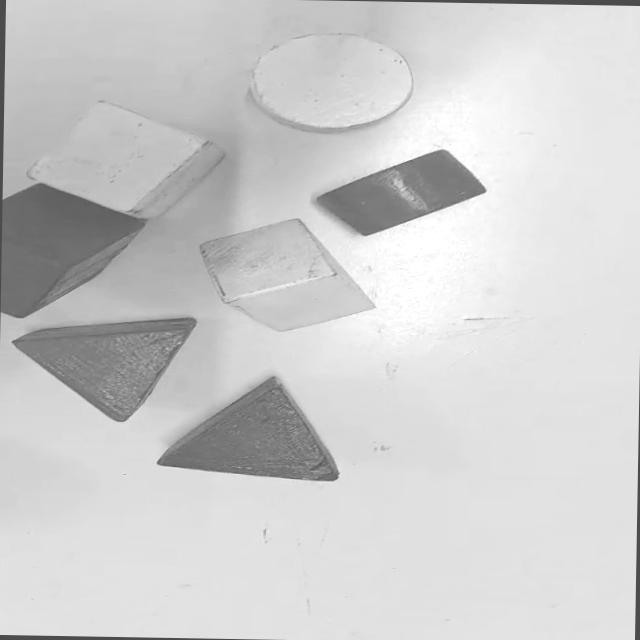btriangle: (155, 377, 338, 481)
rcircle: (316, 149, 485, 234)
rcube: (1, 182, 146, 316)
rtriangle: (12, 317, 195, 420)
ycircle: (250, 32, 412, 131)
ycube: (27, 100, 222, 217)
ytriangle: (200, 219, 374, 331)
